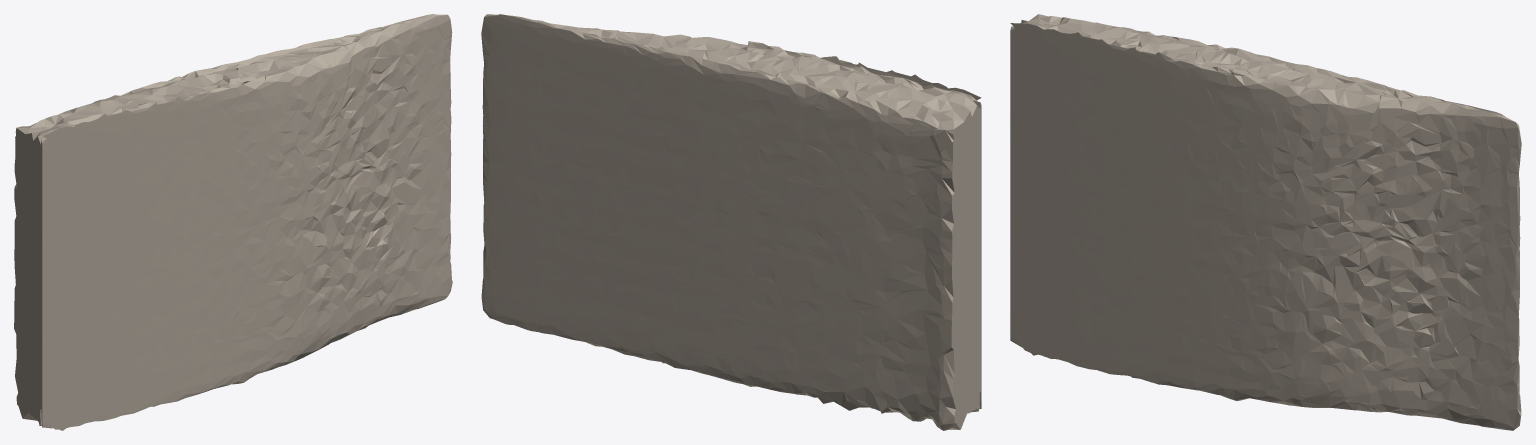
Rendered from improved.glb.
3 renders of one model, left to right at view 1: azimuth 30°, elevation 25°; view 2: azimuth 150°, elevation 25°; view 3: azimuth 330°, elevation 25°, orthographic. The views are drawn at different scales.
Visible parts, largest first — view 1: world; view 2: world; view 3: world.
Part boxes in pixels (left/top/right/bottom): world: left=14, top=14, right=452, bottom=430; world: left=481, top=14, right=981, bottom=430; world: left=1010, top=14, right=1521, bottom=430.
Size of the model in its own units: 1.2 by 0.8015 by 0.1429.
